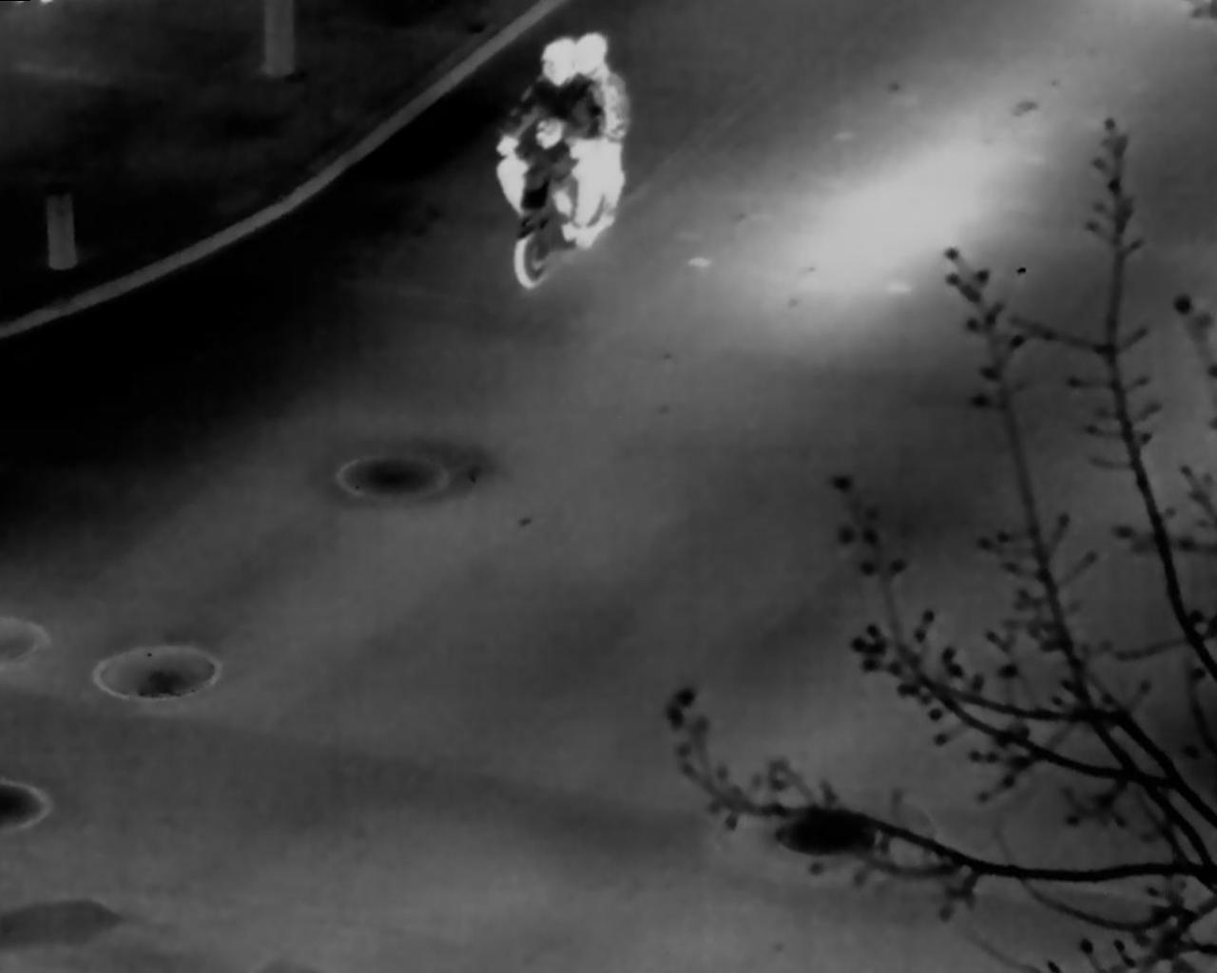person: (495, 34, 604, 243), (524, 34, 626, 242)
